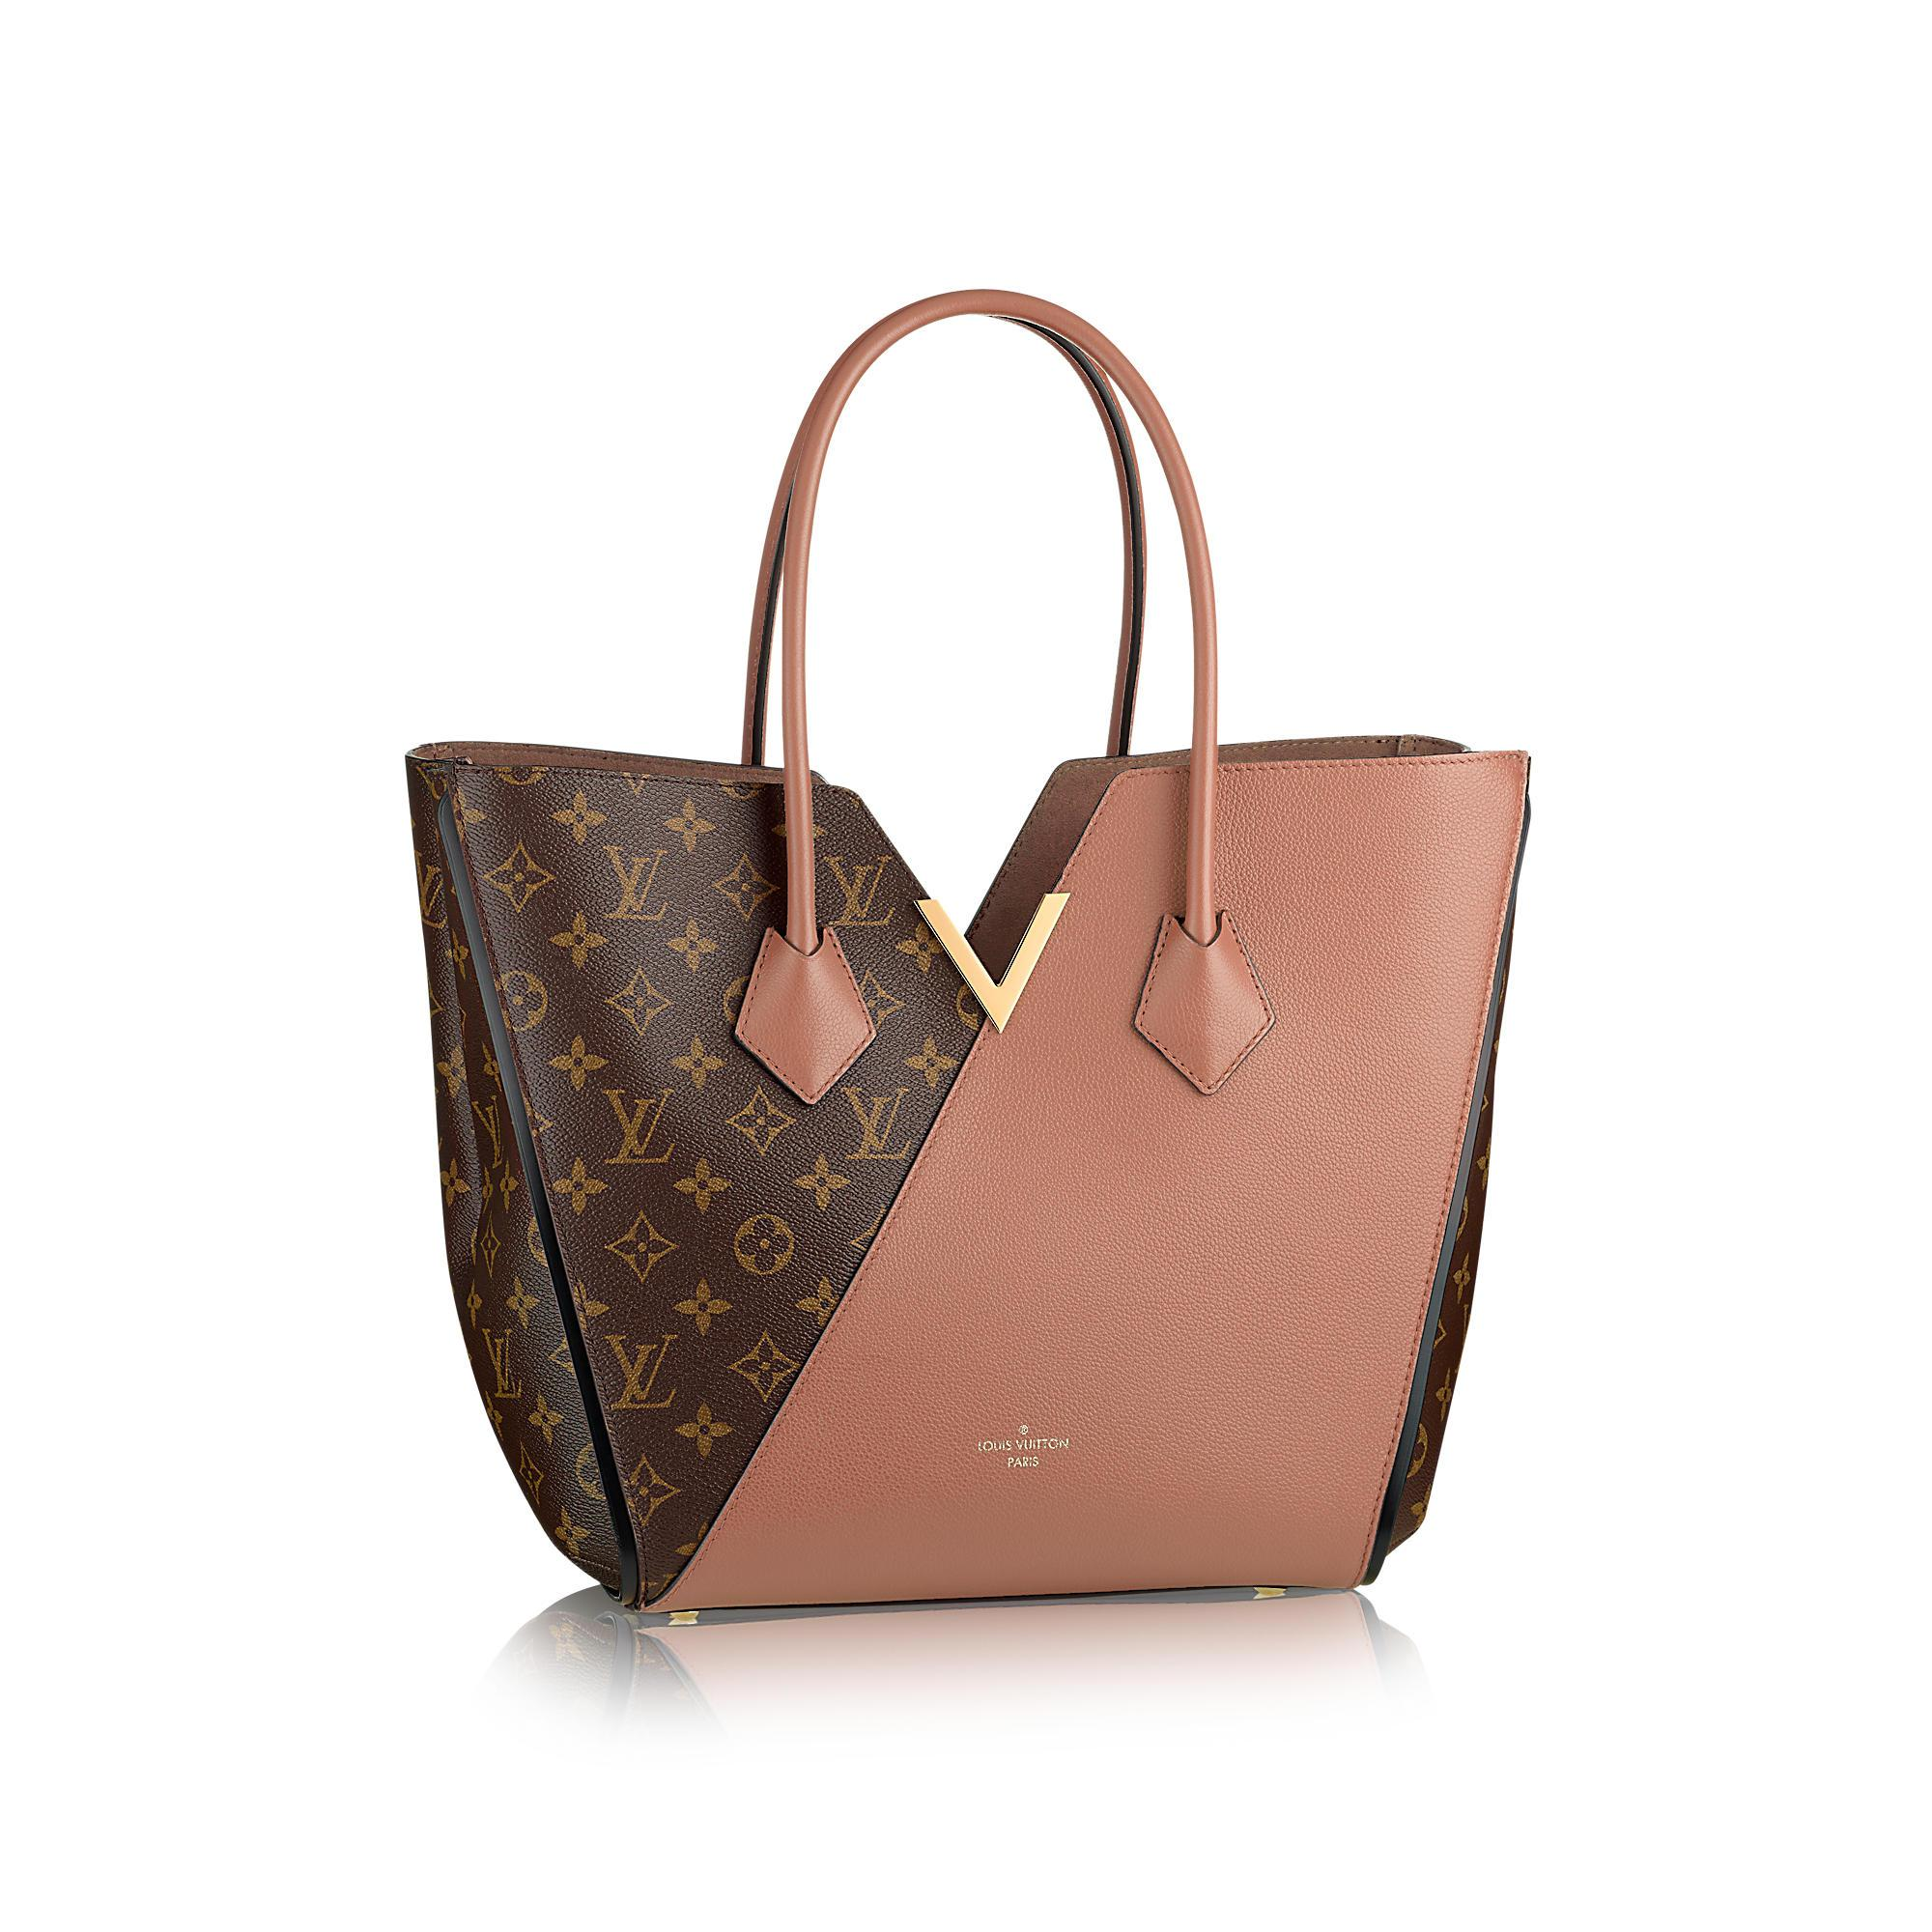LOUIS-VUITTON: (594, 1327, 679, 1414), (600, 1081, 676, 1168), (816, 846, 890, 932), (835, 1083, 913, 1164), (602, 839, 663, 929), (469, 1322, 529, 1401), (474, 1095, 508, 1173)
